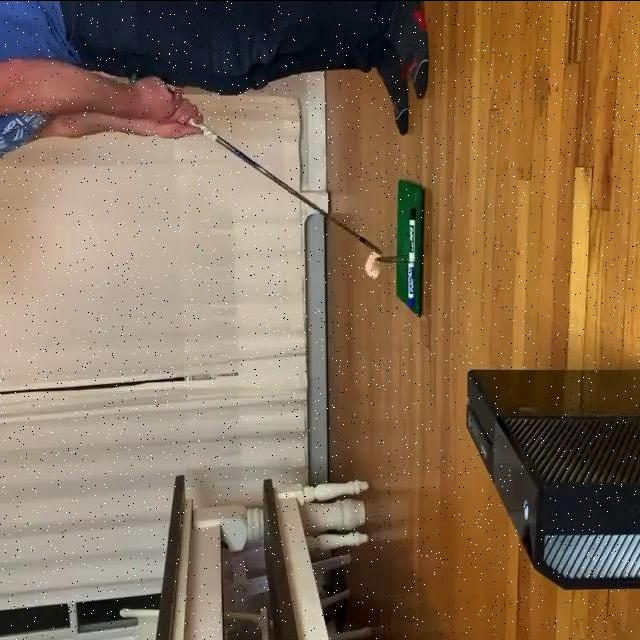golf club-handle: (191, 121, 382, 281)
golf club-head: (366, 253, 382, 278)
